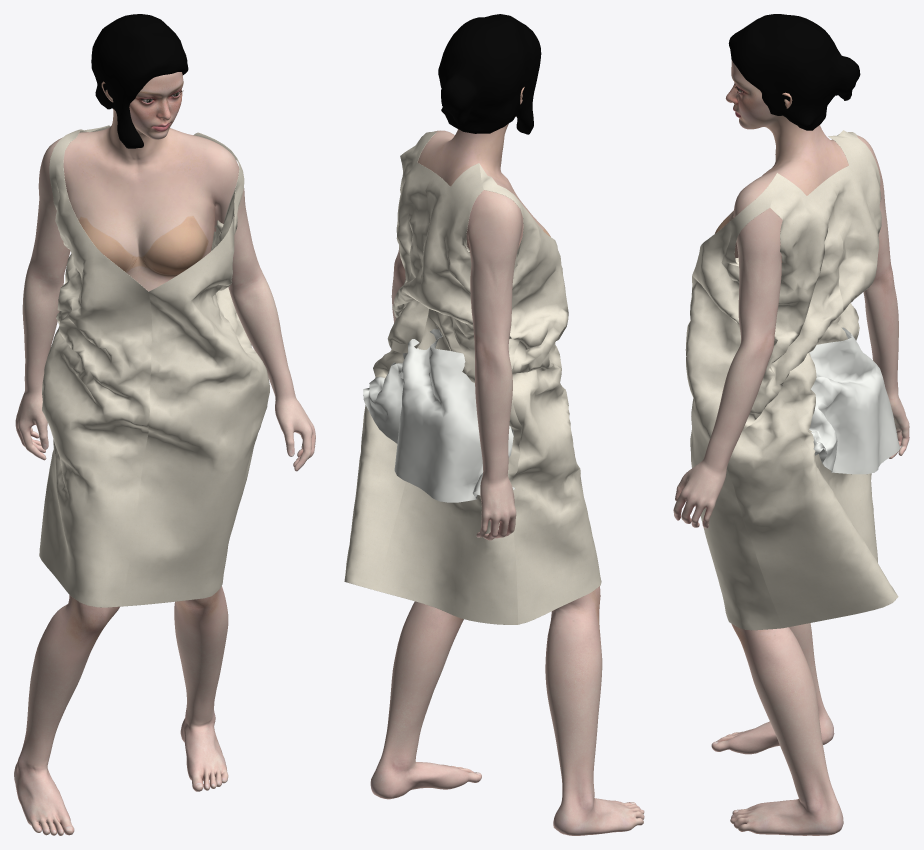
File: Dynamic.obj
3 views of the same model, side by side, from view 1: azimuth 30°, elevation 25°; view 2: azimuth 150°, elevation 25°; view 3: azimuth 270°, elevation 25° (orthographic). The views are drawn at different scales.
Size of the model in its own units: 612 by 1724 by 471.
